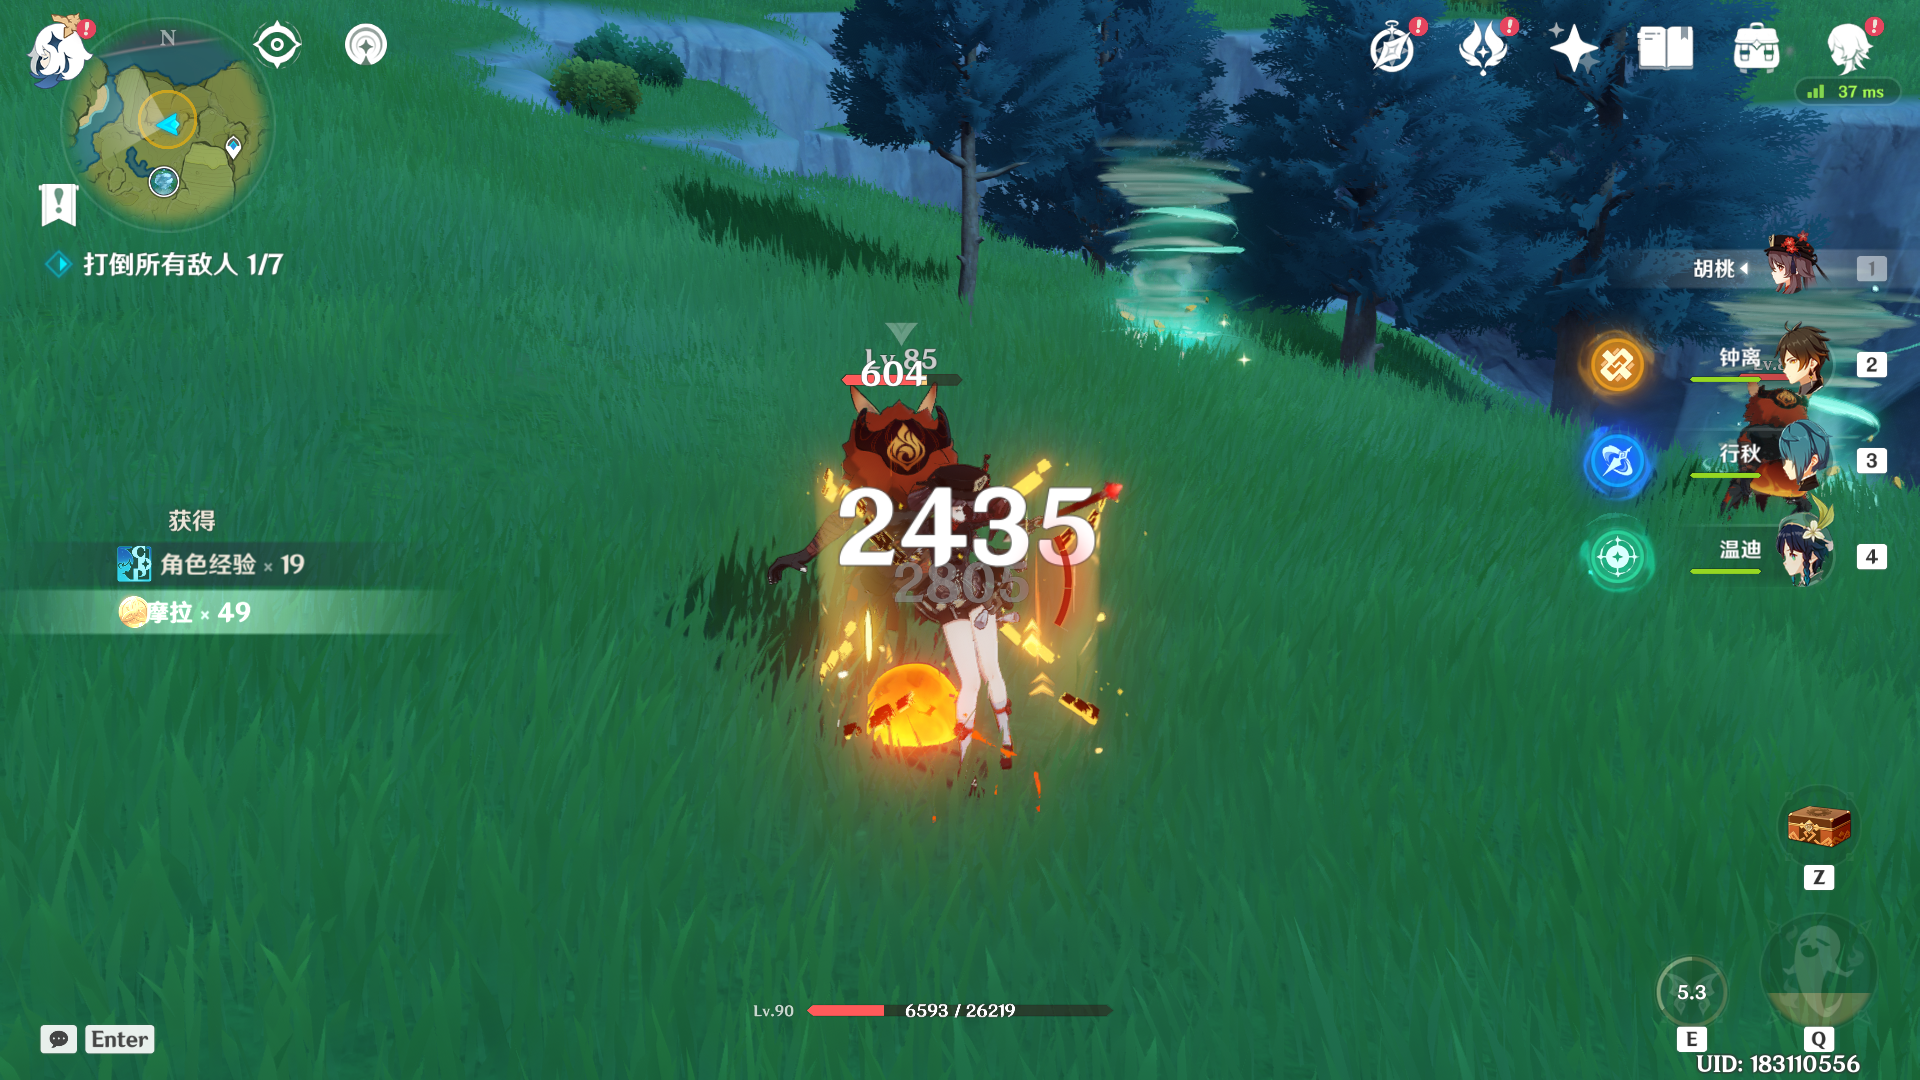character: (852, 458, 1077, 851)
hili: (787, 367, 992, 659)
